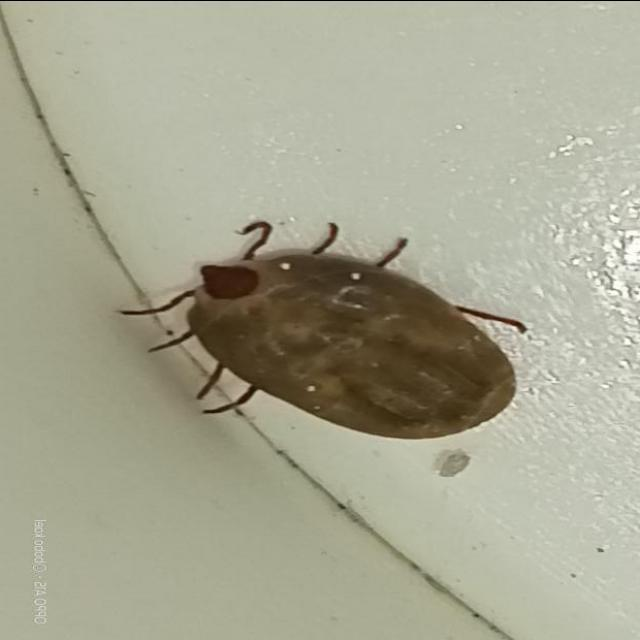Rhipicephalus Sanguineus-F-Fed: (116, 218, 528, 438)
